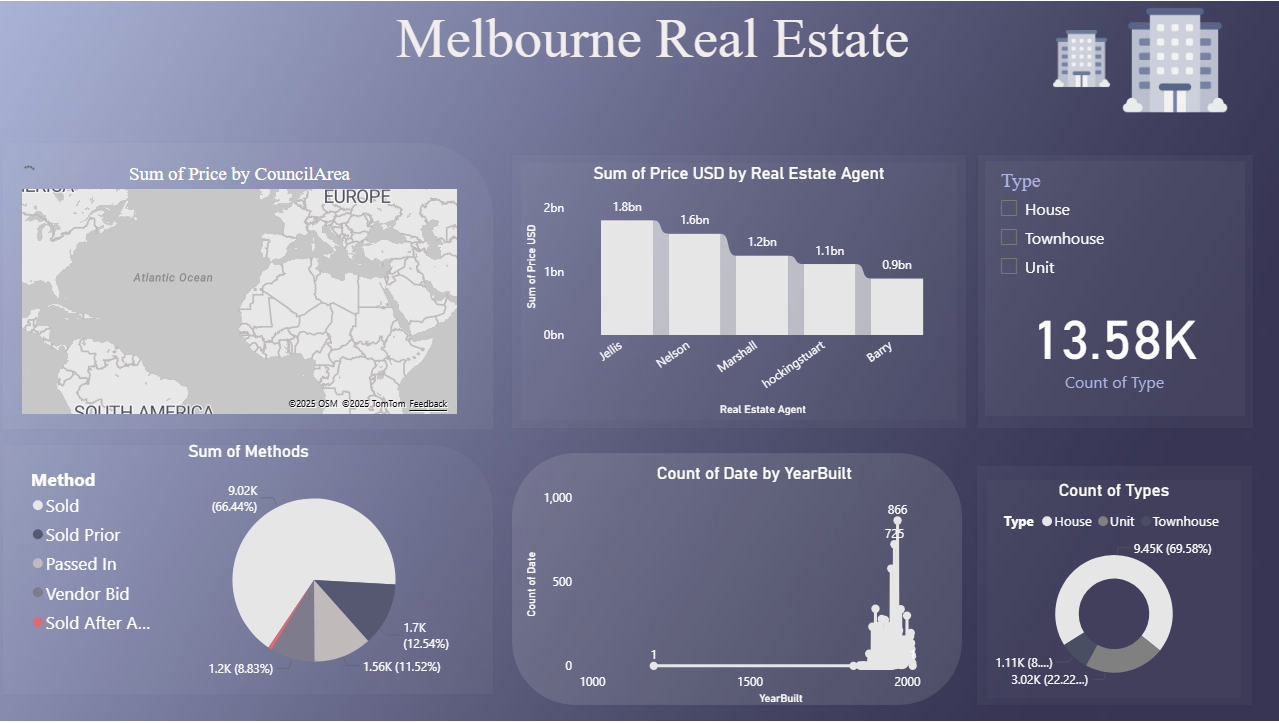

The dashboard page shown, as its layout file describes it:
{"tool":"powerbi","page":{"name":"real estate overview","canvas":[1280,720],"ordinal":0},"visuals":[{"type":"image","box":[1116.7,0,118.3,118.3],"z":0},{"type":"image","box":[1048.3,23.3,68.3,68.3],"z":1000},{"type":"textbox","box":[26.7,0,1253.3,91.7],"z":2000},{"type":"shape","box":[0,138.3,498.3,293.3],"z":3000},{"type":"shape","box":[509,448,458,260],"z":4000},{"type":"azureMap","fields":{"Size":["Type.Price USD"],"Category":["Type.Council Area"]},"box":[18.3,161.7,445,256.7],"z":5000},{"type":"shape","box":[509,150,462,281],"z":6000},{"type":"columnChart","title":"Sum of Price USD by Real Estate Agent","fields":{"Y":["Type.Price USD"],"Category":["Type.Real Estate Agent"]},"box":[522,162,436,257],"z":7000},{"type":"shape","box":[0,440,498.3,256.7],"z":8000},{"type":"shape","box":[975,150,283,281],"z":9000},{"type":"shape","box":[974,461,283,247],"z":10000},{"type":"donutChart","title":"Count of Types","fields":{"Category":["Type.Type"],"Y":["Type.Type"]},"box":[988,479,254,218],"z":11000},{"type":"pieChart","title":"Sum of Methods ","fields":{"Y":["Type.Method"],"Category":["Type.Method"]},"box":[26.7,440,445,256.7],"z":12000},{"type":"slicer","fields":{"Values":["Type.Type"]},"box":[989,163,253,128],"z":13000},{"type":"card","fields":{"Values":["Type.Type"]},"box":[989,285,253,115],"z":14000},{"type":"areaChart","fields":{"Category":["Type.Year Built"],"Y":["Type.Sold Date"]},"box":[522,462,467,246],"z":15000},{"type":"shape","box":[982,156,268,263],"z":16000}]}

Visuals, with their boxes in screenshot pixels (x1, y1, x2, y2), scaled from the page's 1280x720 canvas onto the 1279x723 screenshot:
image: (1116,0,1234,119)
image: (1047,23,1116,92)
textbox: (27,0,1278,92)
shape: (0,139,498,433)
shape: (509,450,966,711)
azureMap - Type.Price USD x Type.Council Area: (18,162,463,420)
shape: (509,151,970,433)
"Sum of Price USD by Real Estate Agent" columnChart: (522,163,957,421)
shape: (0,442,498,700)
shape: (974,151,1257,433)
shape: (973,463,1256,711)
"Count of Types" donutChart: (987,481,1241,700)
"Sum of Methods " pieChart: (27,442,471,700)
slicer - Type.Type: (988,164,1241,292)
card - Type.Type: (988,286,1241,402)
areaChart - Type.Year Built x Type.Sold Date: (522,464,988,711)
shape: (981,157,1249,421)
